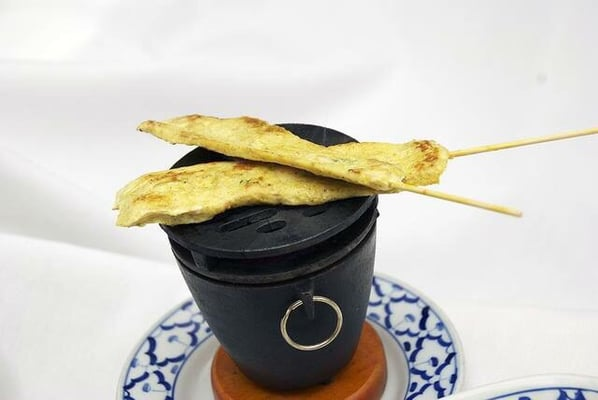pasta: (110, 111, 456, 230)
